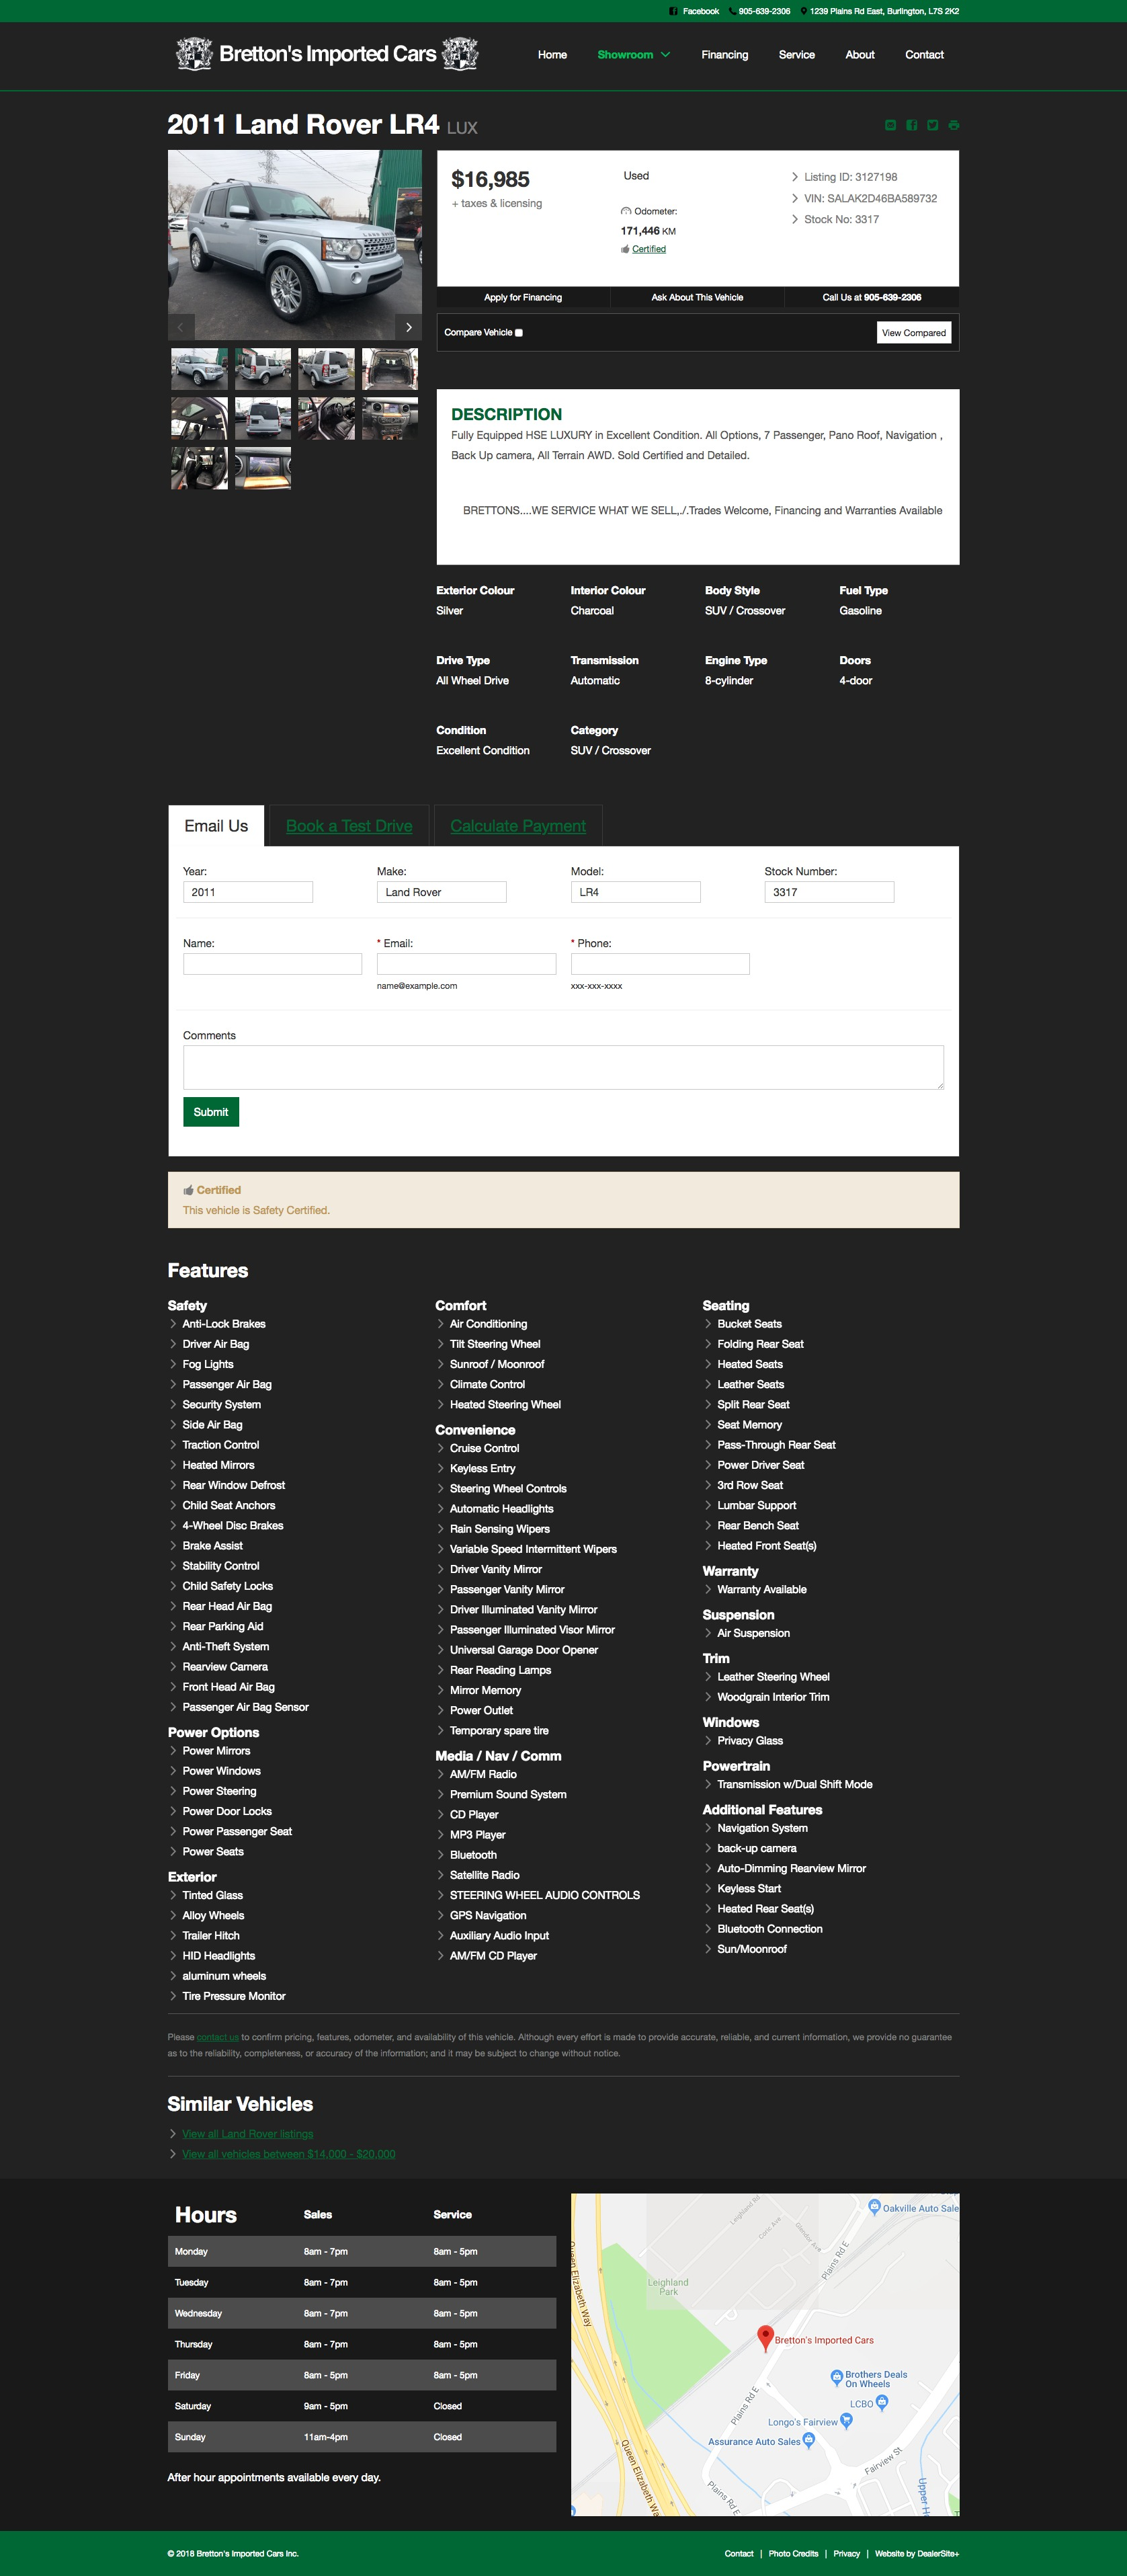car: (394, 312, 425, 343)
